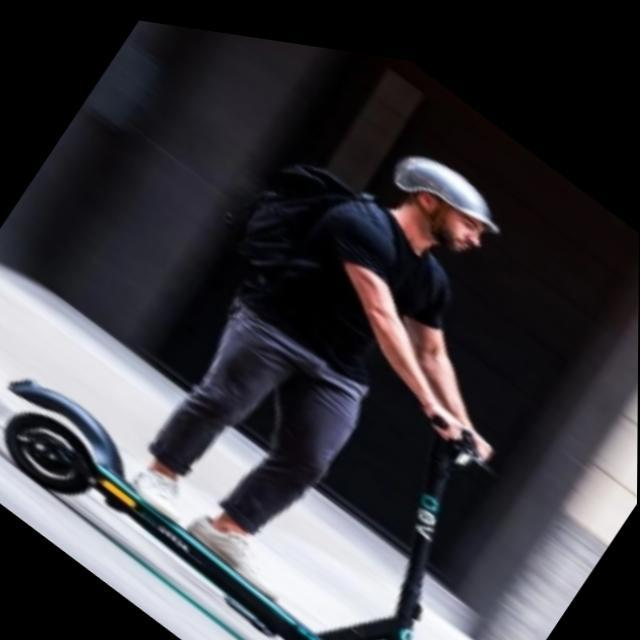Helmet: (390, 153, 502, 267)
